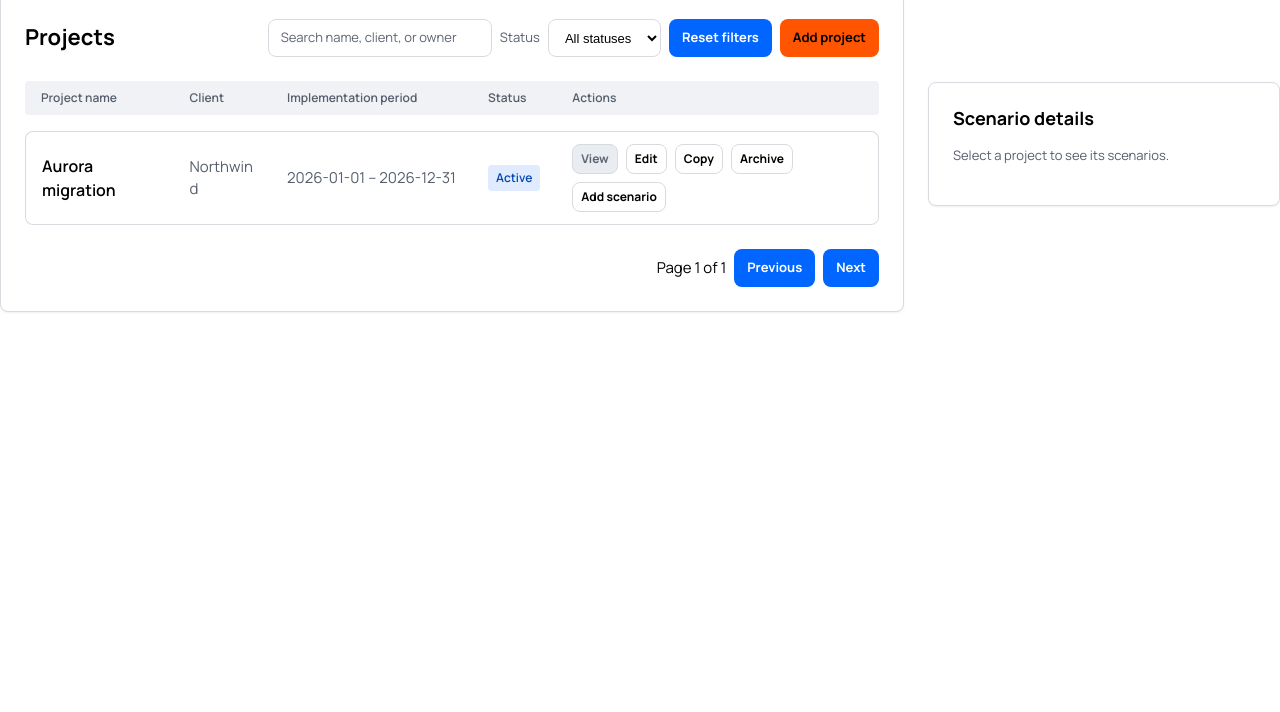
K-01 — hours and headcount render only through the shared hours formatter › rounds ROUND_HALF_UP on the .005 boundary for each of the three independent hours values, matching the backend
Click the button "Aurora migration": click(100, 178) [42, 154, 158, 202]
(page scrolled)
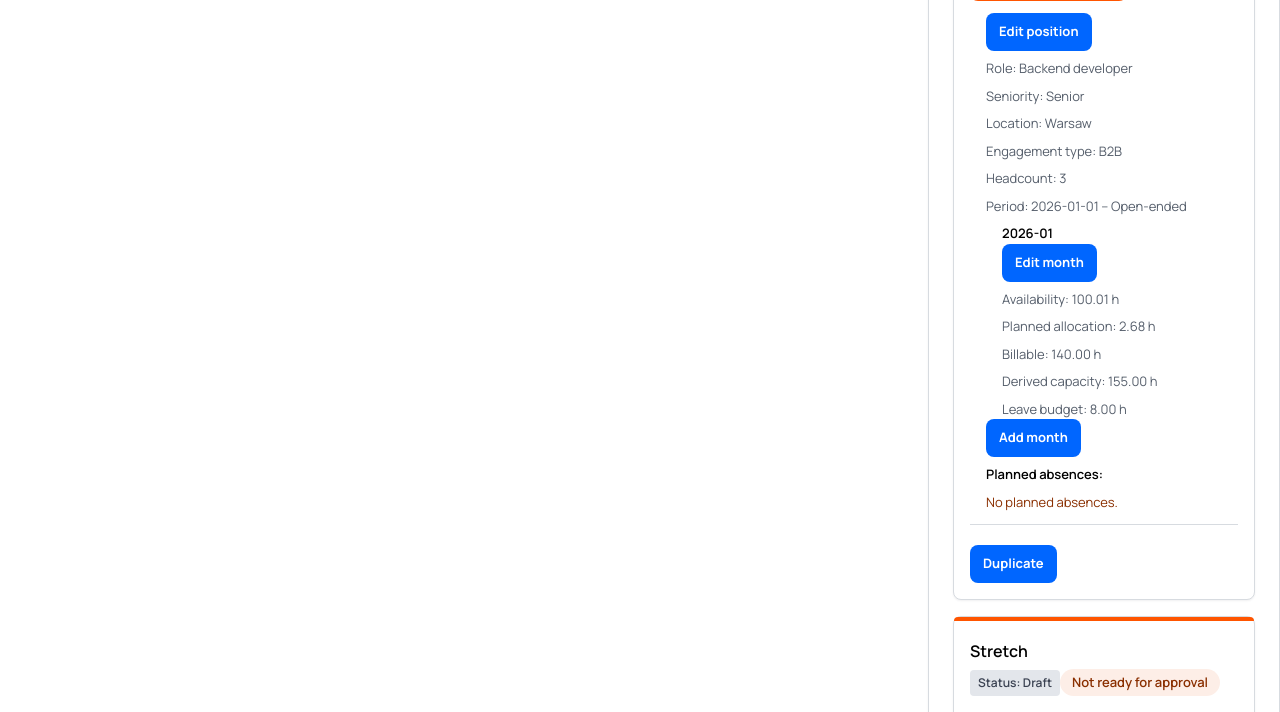
Check: the text "Headcount: 3" is shown, box [986, 169, 1066, 187]
Check: the text "Availability: 100.01 h" is shown, box [1002, 289, 1119, 307]
Check: the text "Planned allocation: 2.68 h" is shown, box [1002, 317, 1156, 335]
